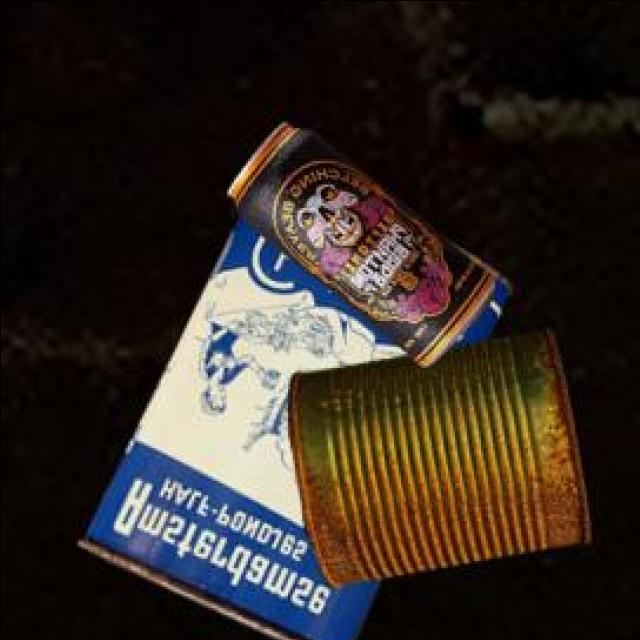logam: (81, 213, 514, 640), (291, 324, 592, 582), (232, 119, 498, 361)
